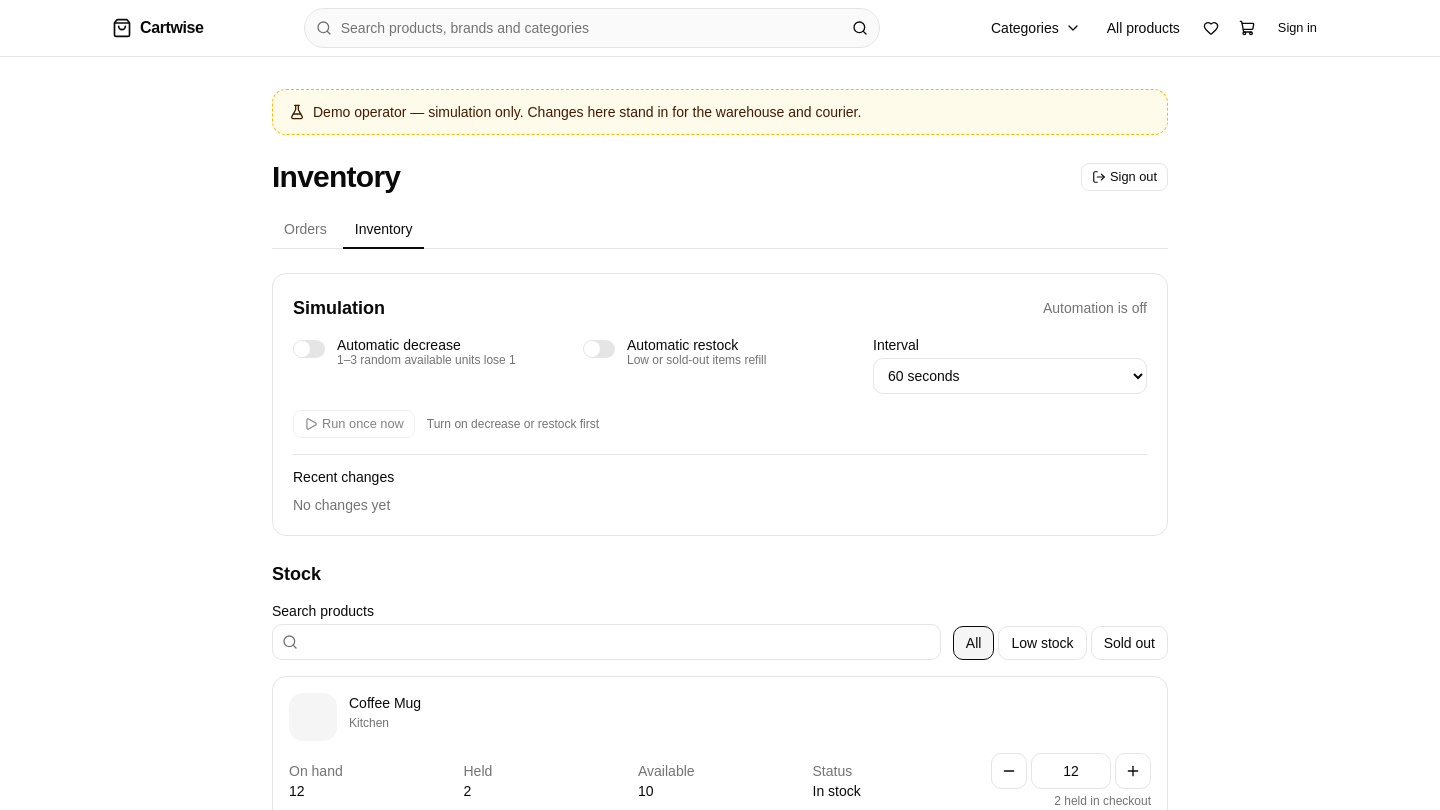
inventory tab › lists stock with on hand, held, available and status; filters and searches
Expected: the text "12" is shown, [289,783,305,799]
Expected: the text "2" is shown, [464,783,471,799]
Step 1. Click the radio button labelled "Low stock" → coordinates (1043, 643), box [998,626,1087,660]
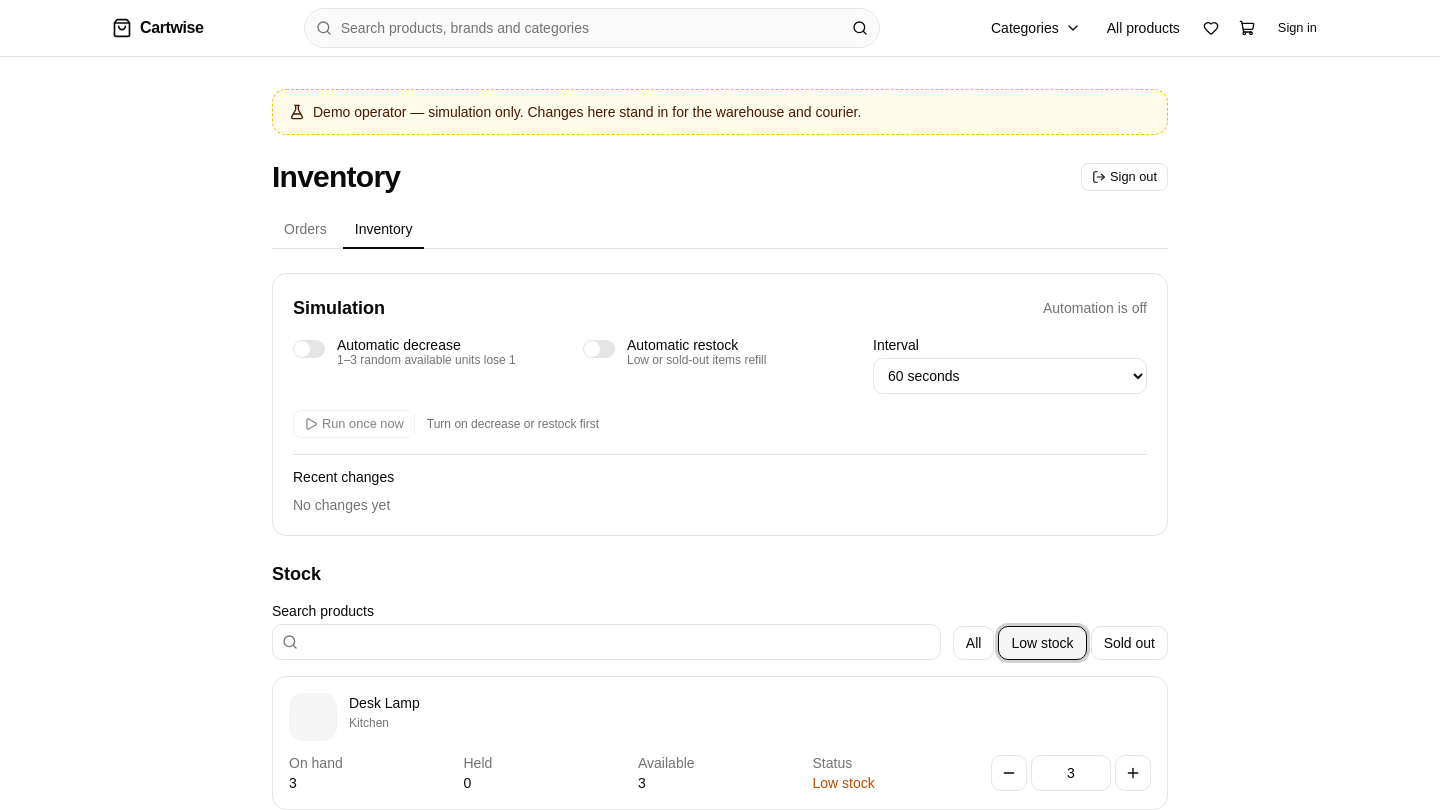
Expected: the element "Desk Lamp" is shown, [272,676,1168,809]
Expected: the heading "Coffee Mug" is gone
Step 2. Click the radio button labelled "Sold out" → coordinates (1129, 643), box [1091,626,1168,660]
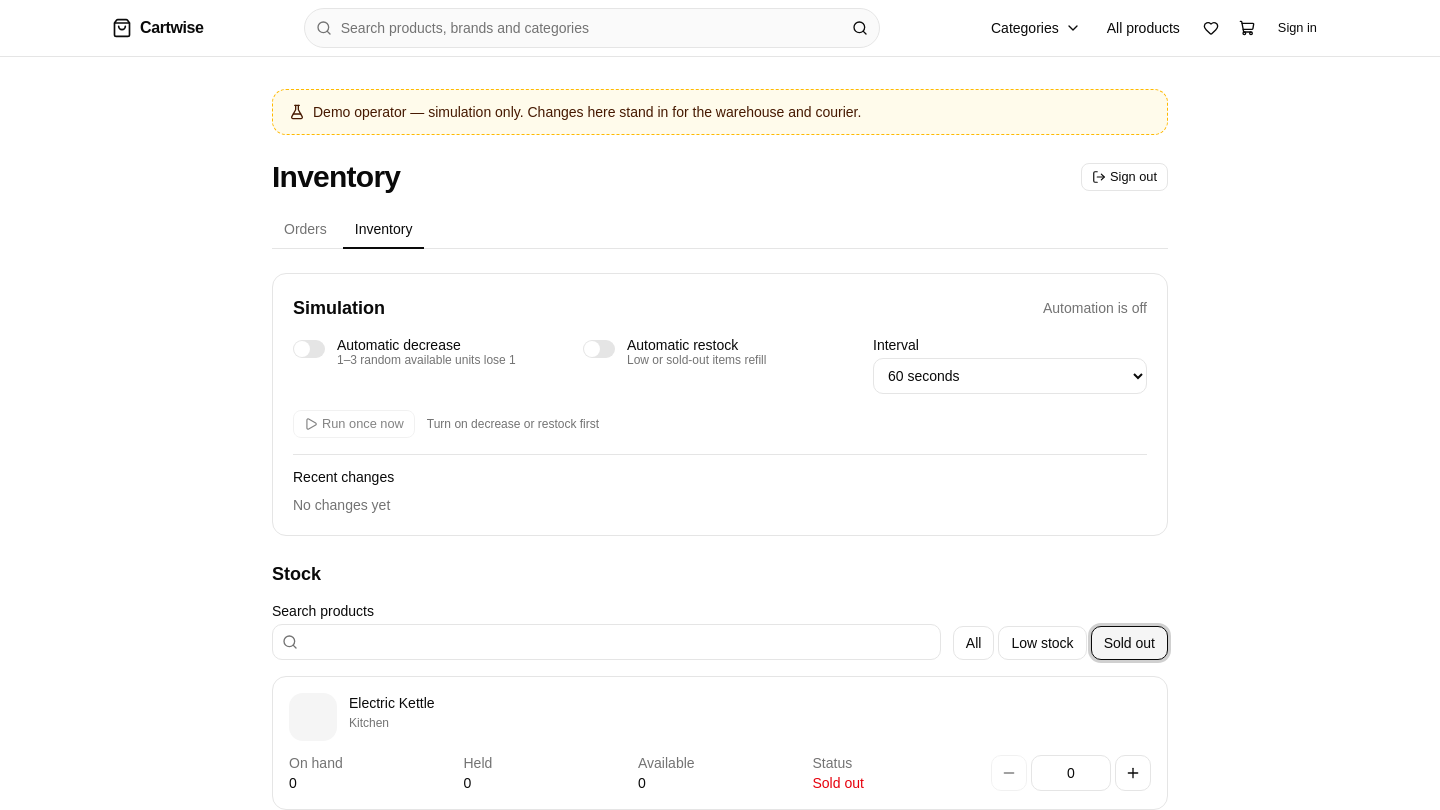
Expected: the element "Electric Kettle" is shown, [272,676,1168,809]
Step 3. Click the radio button labelled "All" → coordinates (974, 643), box [953,626,994,660]
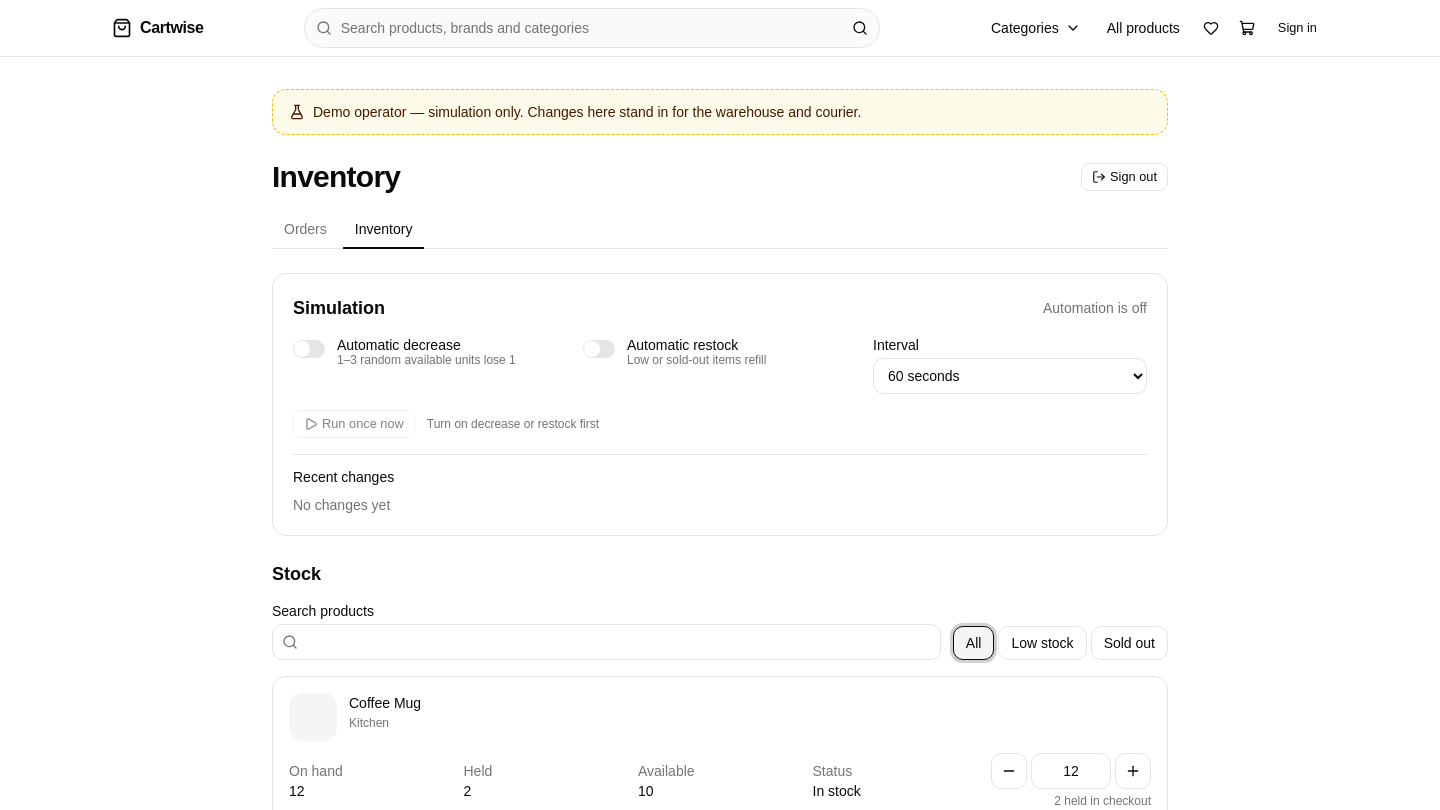
Step 4. Type "zzz" into the search field labelled "Search products" → coordinates (606, 642), box [272,624,941,660]
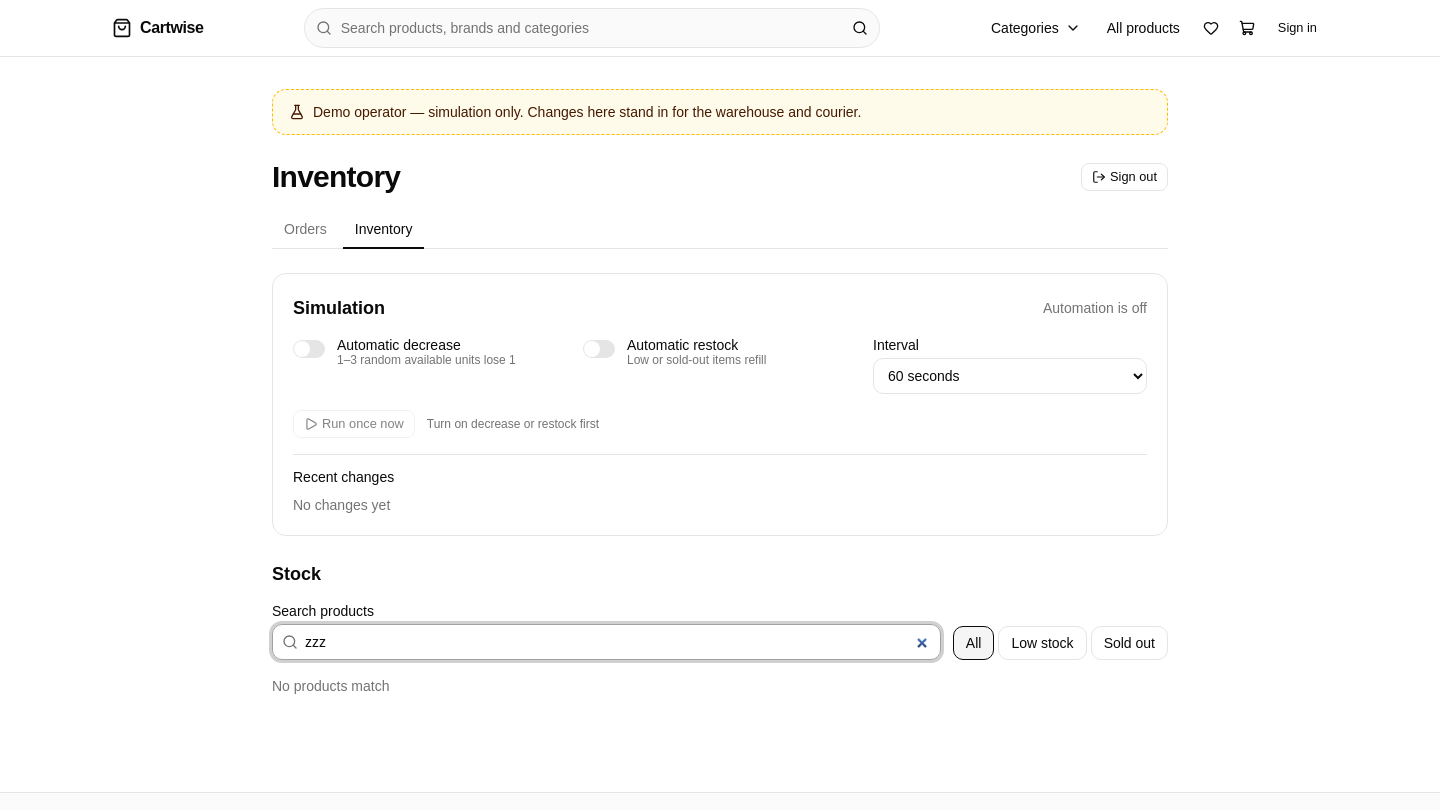
Expected: the text "No products match" is shown, [272,678,390,694]
